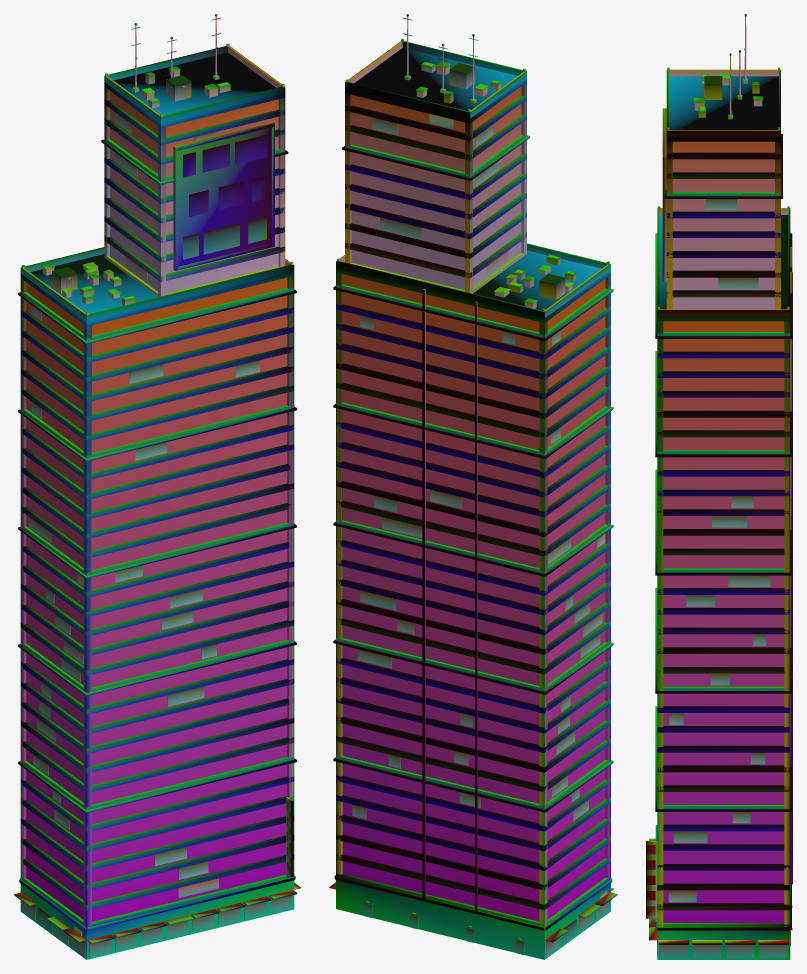
The model's file is Tower_Slab_V10.fbx.
3 renders of one model, left to right at view 1: azimuth 30°, elevation 25°; view 2: azimuth 150°, elevation 25°; view 3: azimuth 270°, elevation 25°, orthographic.
Parts seen in each view (by area): view 1: Tower_Slab_V10_LOD0; view 2: Tower_Slab_V10_LOD0; view 3: Tower_Slab_V10_LOD0.
Boxes of the visible parts, <box> form: Tower_Slab_V10_LOD0: <box>14,14,300,959</box>; Tower_Slab_V10_LOD0: <box>329,14,617,959</box>; Tower_Slab_V10_LOD0: <box>646,14,792,959</box>.
Size of what is drawn, in the model's own units: 42.8 by 162 by 24.31.
